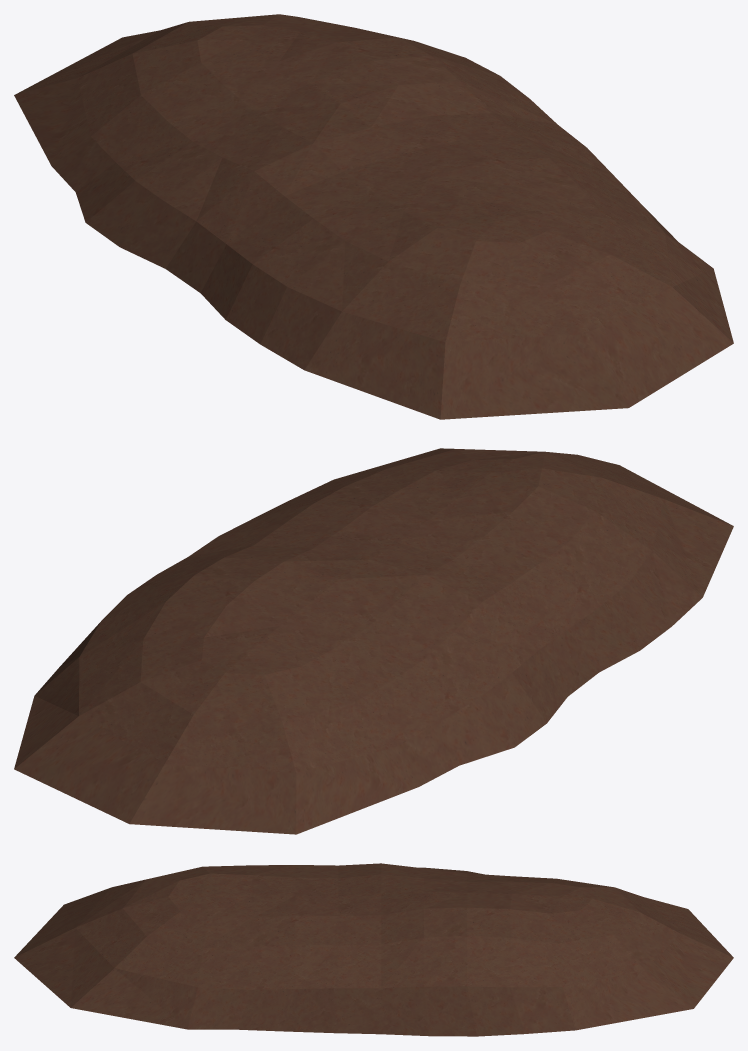
File: Dirt_Mound2.fbx
The picture shows the model from 3 angles, top to bottom: view 1: azimuth 30°, elevation 25°; view 2: azimuth 150°, elevation 25°; view 3: azimuth 270°, elevation 25°; orthographic projection. The views are drawn at different scales.
Visible parts, largest first — view 1: DirtMound2; view 2: DirtMound2; view 3: DirtMound2.
Part boxes in pixels (left/top/right/bottom): DirtMound2: left=14, top=14, right=733, bottom=419; DirtMound2: left=14, top=448, right=733, bottom=834; DirtMound2: left=14, top=863, right=733, bottom=1036.
Size of the model in its own units: 151 by 32.2 by 298.
